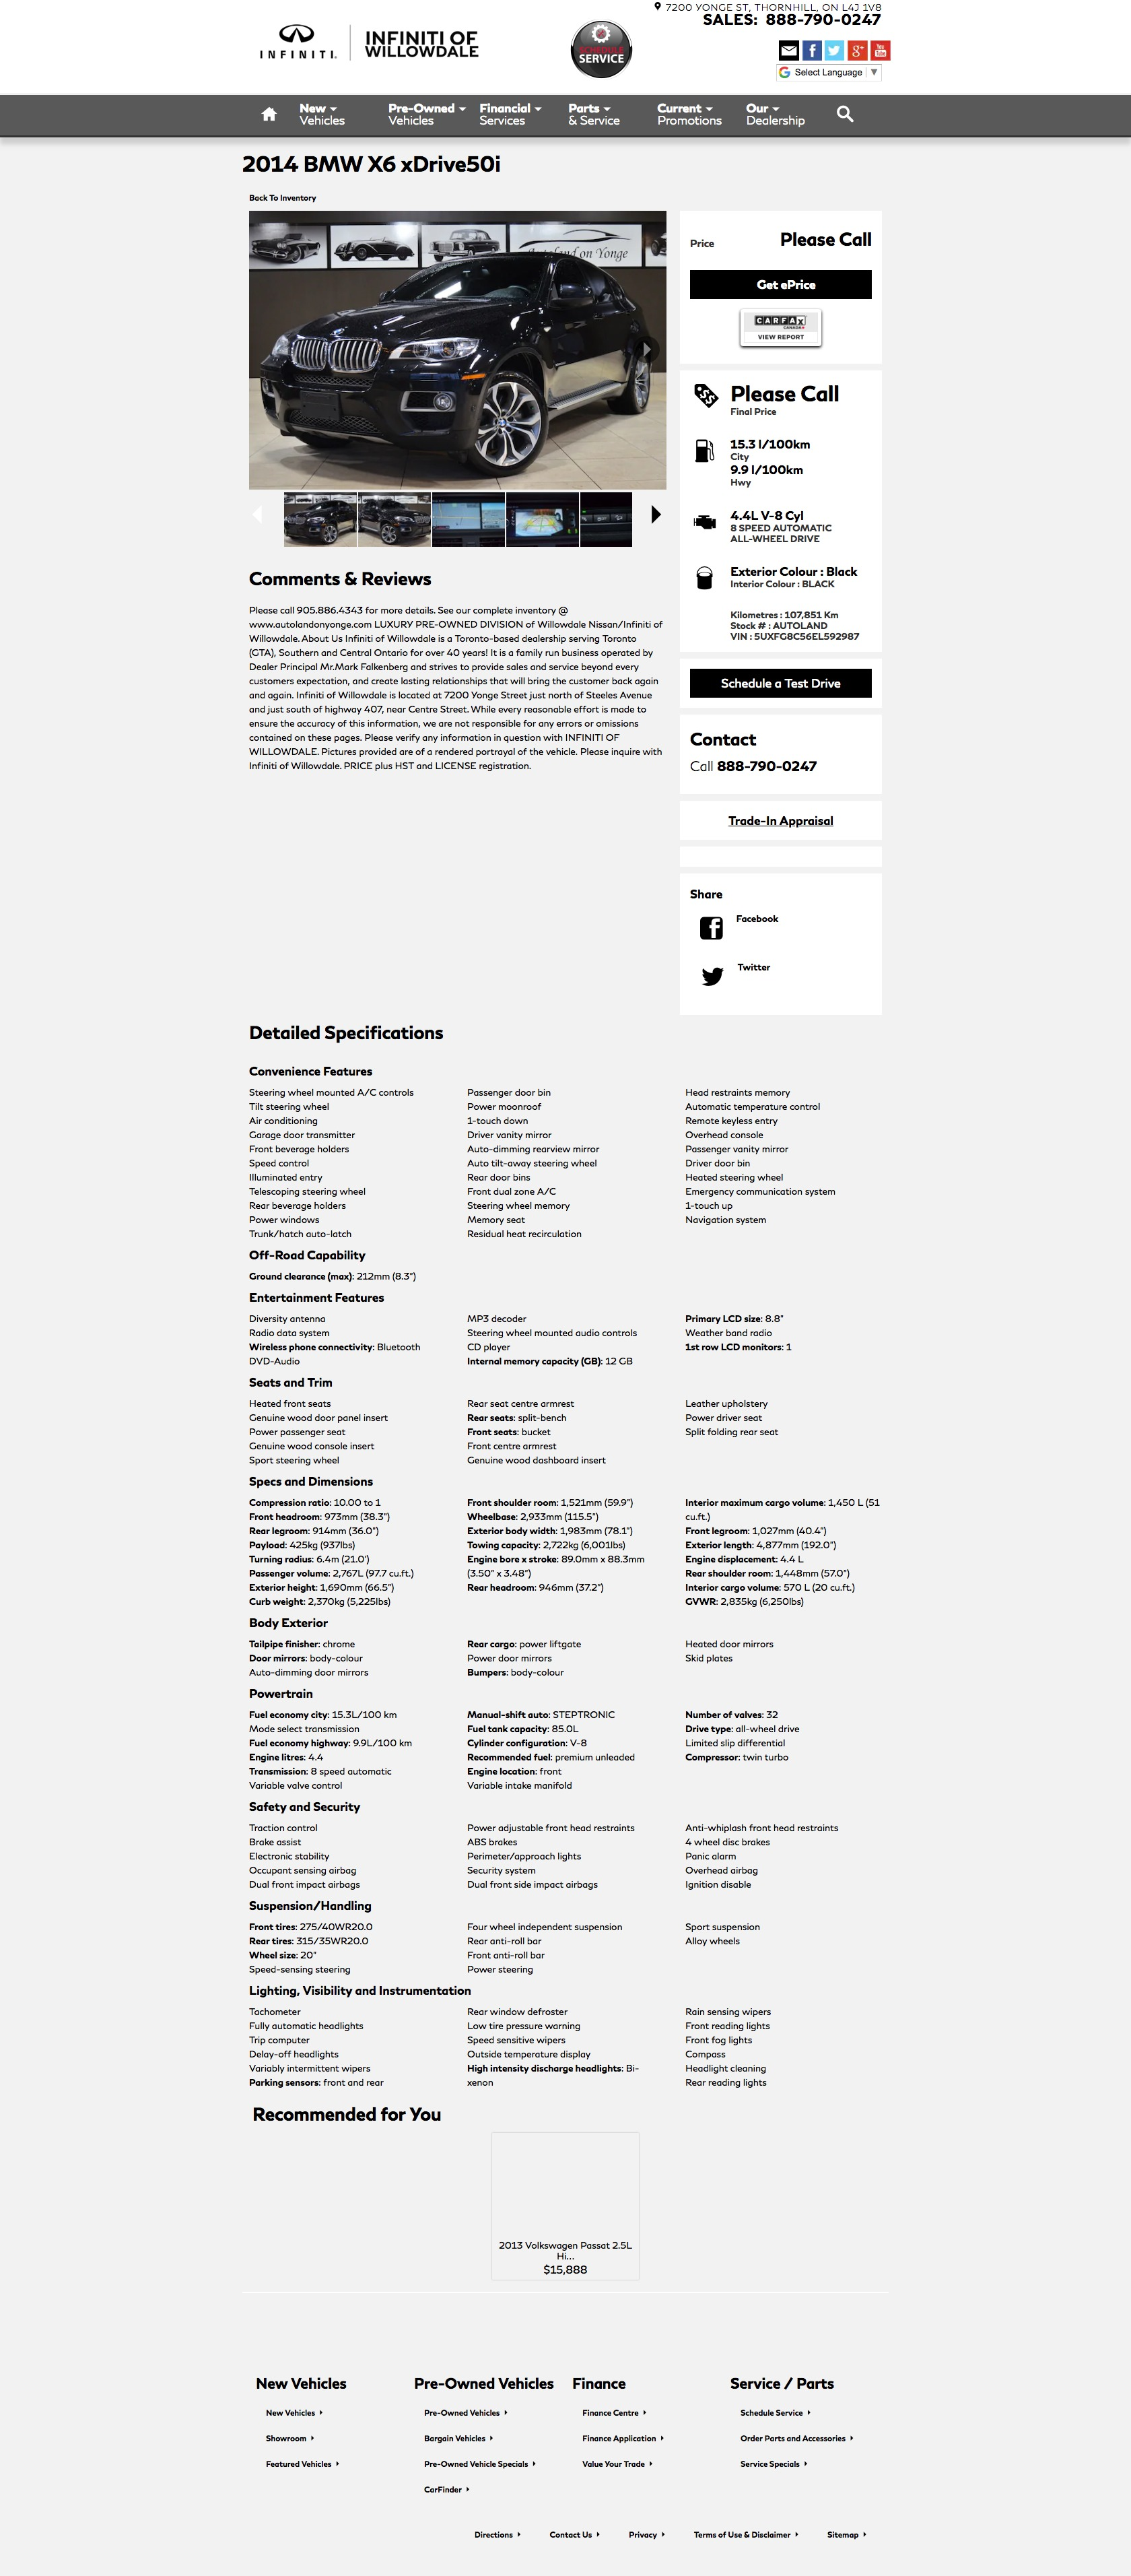car: (652, 504, 663, 526)
